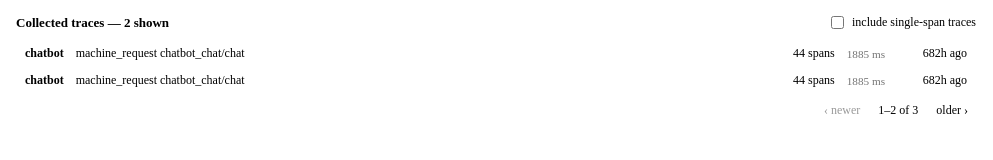
it: TraceList › pages through the backend's list
Expected: the text with test id "trace-list-range" reads "1–2 of 3", [878,103,918,117]
Click the button "older ›".
click(952, 110)  # box [928,102,976,119]
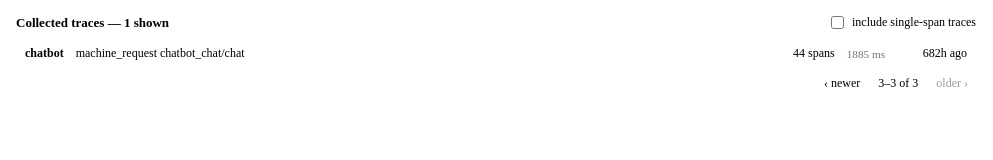
Now the text with test id "trace-list-range" reads "3–3 of 3", box [878,76,918,90]
Now the button "older ›" is disabled, box [928,75,976,92]
Click the button "‹ newer".
click(842, 84)  # box [816,75,868,92]
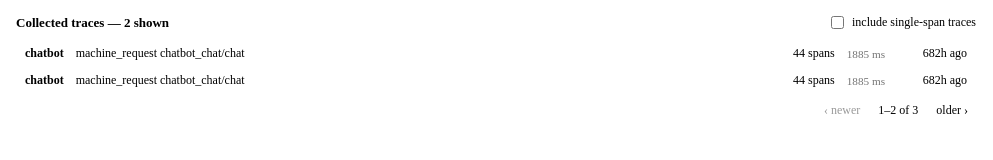
Now the text with test id "trace-list-range" reads "1–2 of 3", box [878,103,918,117]
